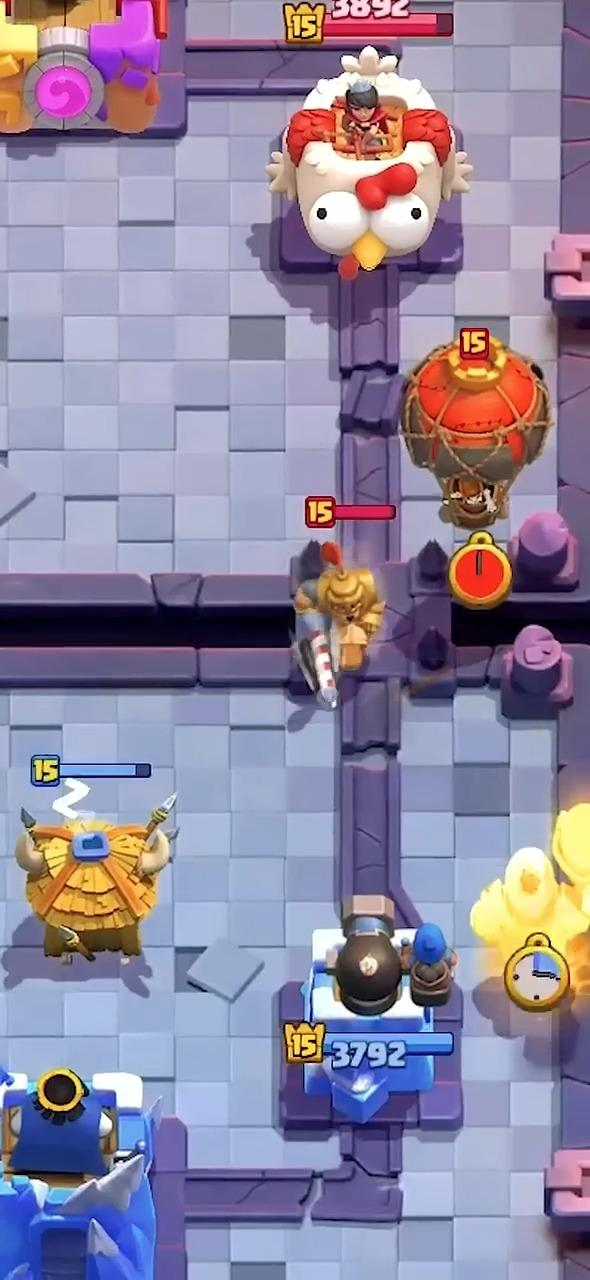baloon: (400, 337, 551, 530)
furnace: (471, 803, 589, 961)
goblin hut: (15, 797, 174, 962)
prince: (292, 542, 384, 707)
